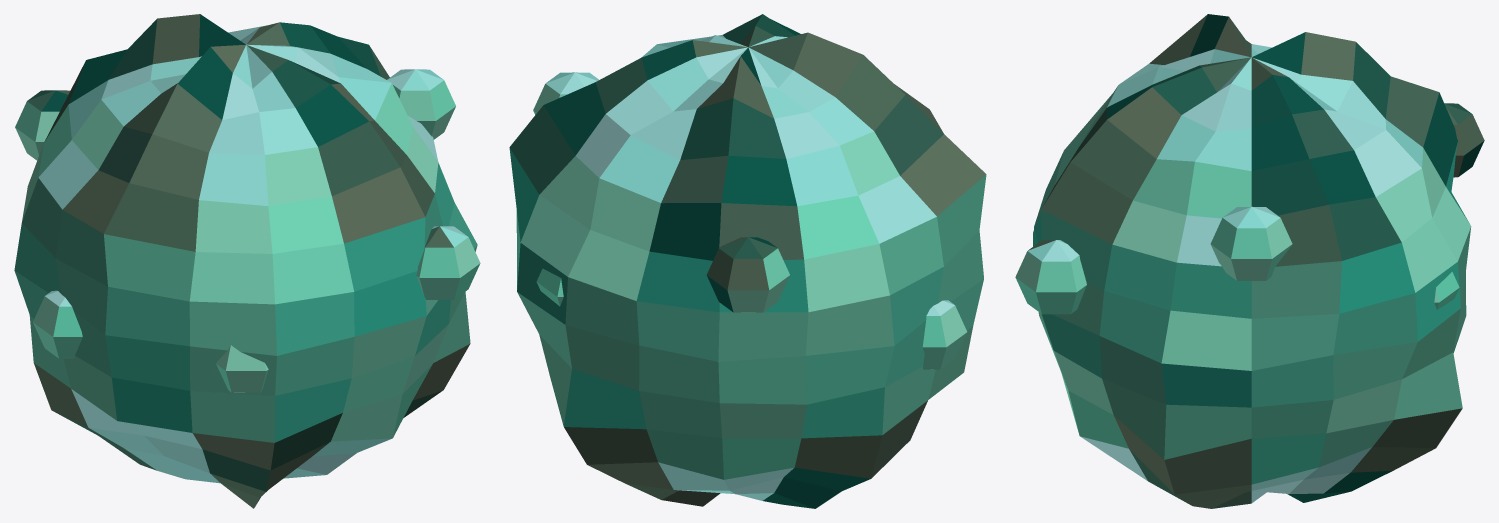
Rendered from Alien_Core.glb.
The picture shows the model from 3 angles, left to right: view 1: azimuth 30°, elevation 25°; view 2: azimuth 150°, elevation 25°; view 3: azimuth 270°, elevation 25°; orthographic projection. The views are drawn at different scales.
Visible parts, largest first — view 1: AlienCore; view 2: AlienCore; view 3: AlienCore.
Boxes of the visible parts, <box> form: AlienCore: <box>14,14,480,508</box>; AlienCore: <box>509,14,986,508</box>; AlienCore: <box>1015,14,1484,508</box>.
Bounding box in the file's own units: 0.4592 × 0.4957 × 0.4572.
